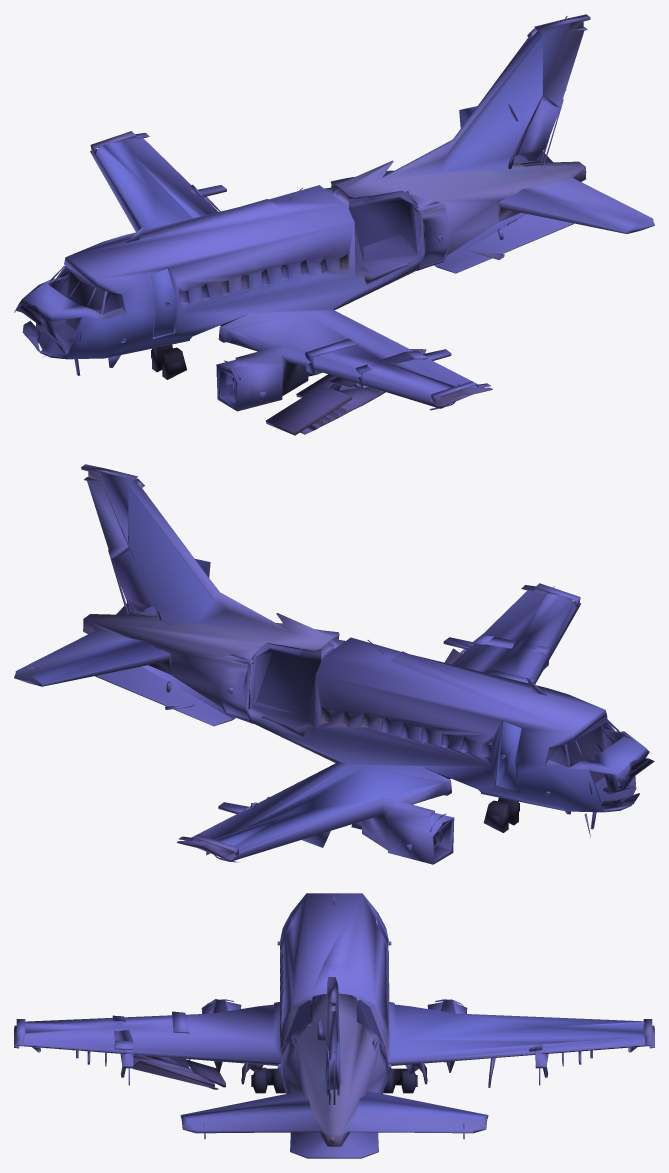
Rendered from model.progressive.glb.
3 renders of one model, top to bottom at view 1: azimuth 30°, elevation 25°; view 2: azimuth 150°, elevation 25°; view 3: azimuth 270°, elevation 25°, orthographic. The views are drawn at different scales.
Parts seen in each view (by area): view 1: material; view 2: material; view 3: material.
Part boxes in pixels (left/top/right/bottom): material: left=14, top=14, right=654, bottom=435; material: left=14, top=464, right=654, bottom=864; material: left=14, top=893, right=654, bottom=1158.
Bounding box in the file's own units: 1.76 × 0.7732 × 1.9.
1 material, 1 textured.
